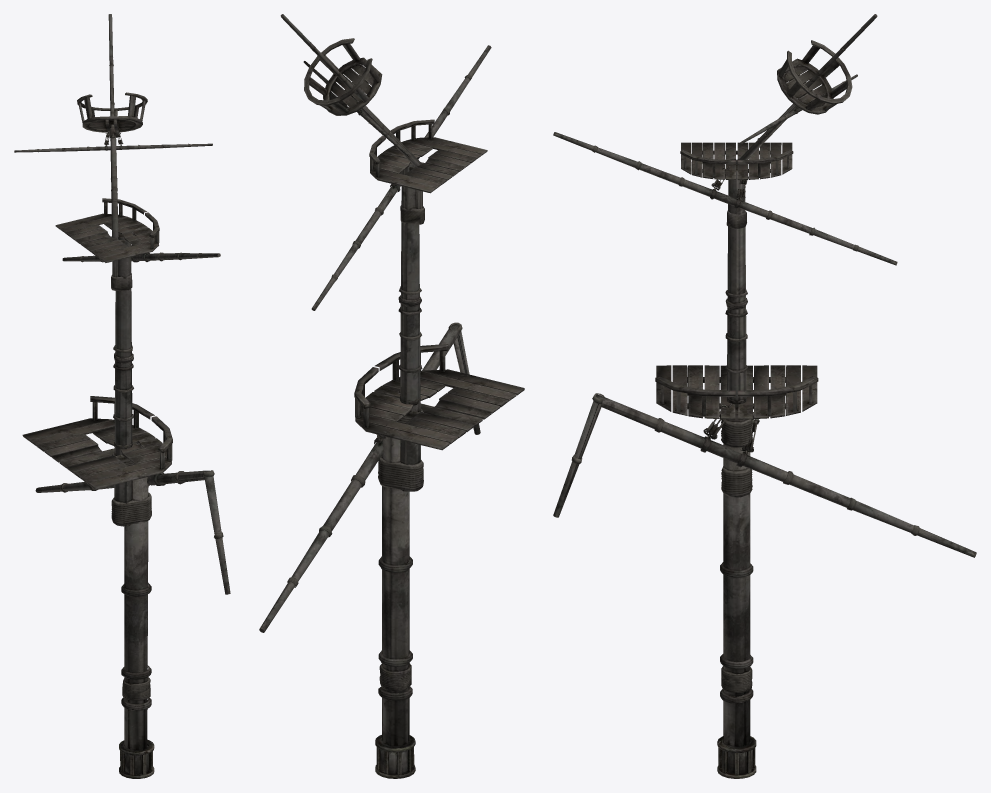
File: ShipWreck_Mast_3-transformed.glb
3 views of the same model, side by side, from view 1: azimuth 30°, elevation 25°; view 2: azimuth 150°, elevation 25°; view 3: azimuth 270°, elevation 25° (orthographic). The views are drawn at different scales.
Visible parts, largest first — view 1: ShipWreck_Mast_3; view 2: ShipWreck_Mast_3; view 3: ShipWreck_Mast_3.
Part boxes in pixels (x1,y1,x2,y2): ShipWreck_Mast_3: (14,14,230,778); ShipWreck_Mast_3: (259,14,524,778); ShipWreck_Mast_3: (553,14,976,778).
Size of the model in its own units: 7.44 by 32.01 by 15.82.
1 material, 1 textured.
